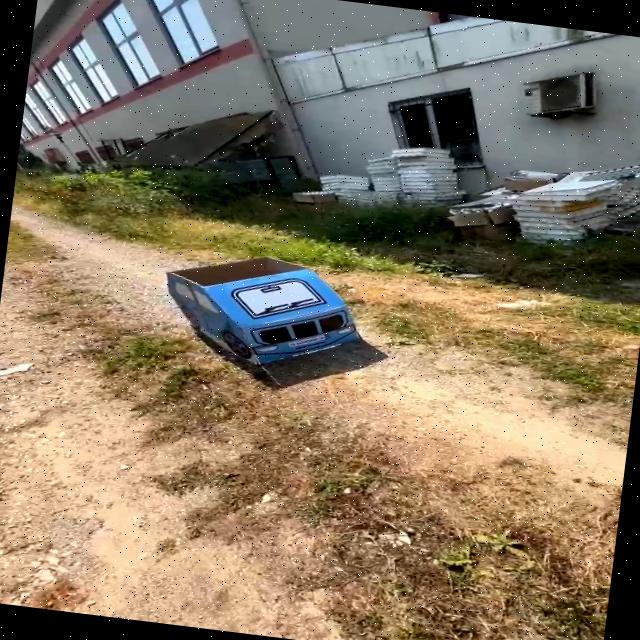blue_car: (136, 232, 383, 391)
